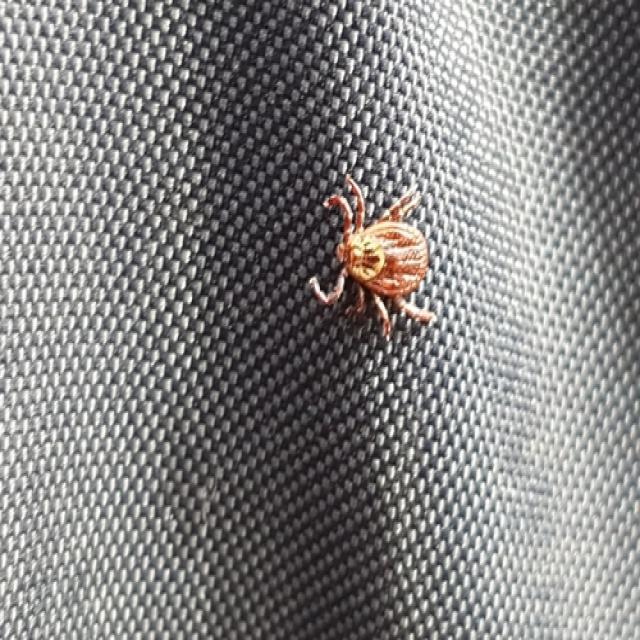Dermacentor Reticulatus-F: (310, 184, 434, 336)
